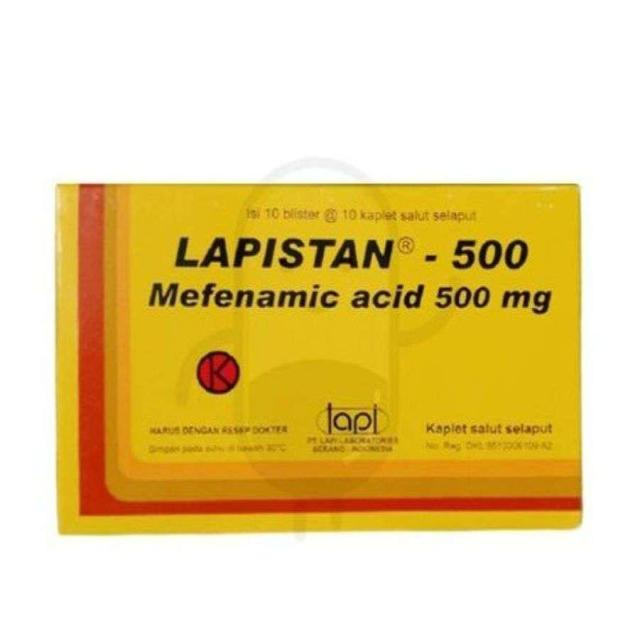drug-name: (170, 233, 534, 270)
